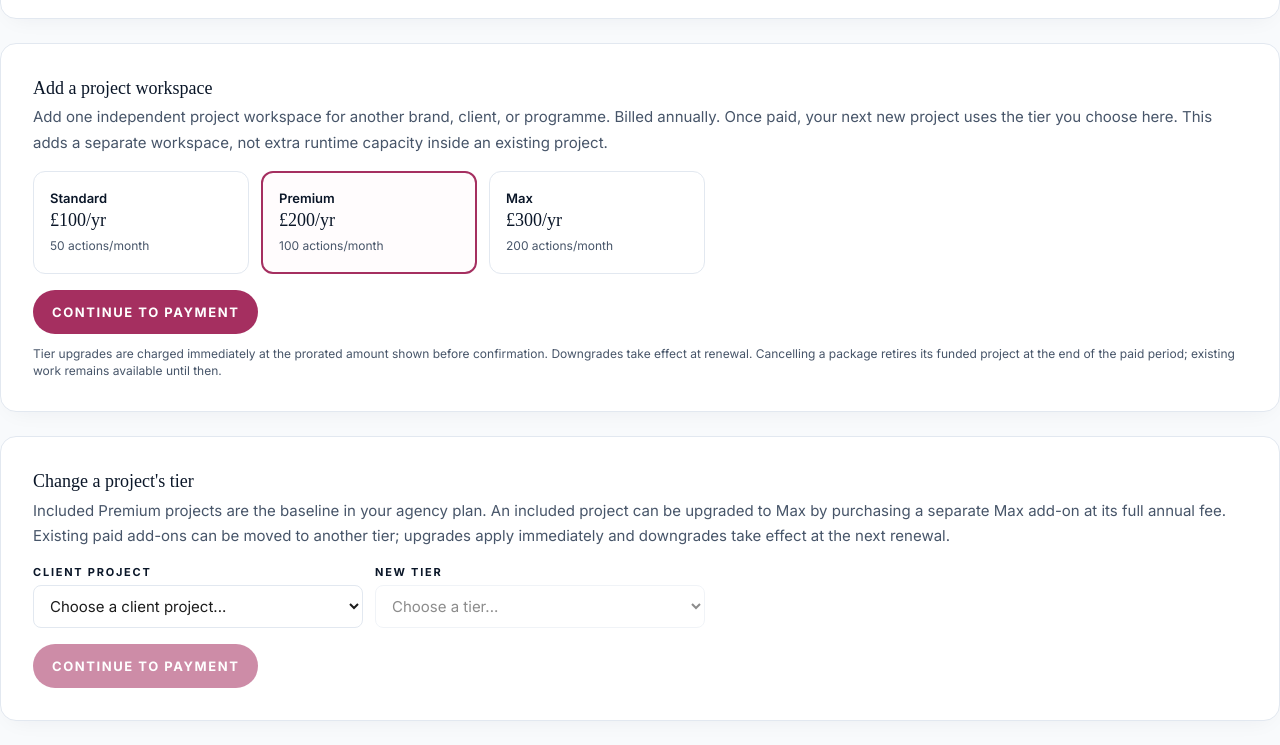
Test case: agency project tier controls › blocks confirmation and retries after a server failure
(page scrolled)
Select "Paid client project - Premium" in the dropdown labelled "Client project". click: (198, 606)
box: [33,585,363,628]
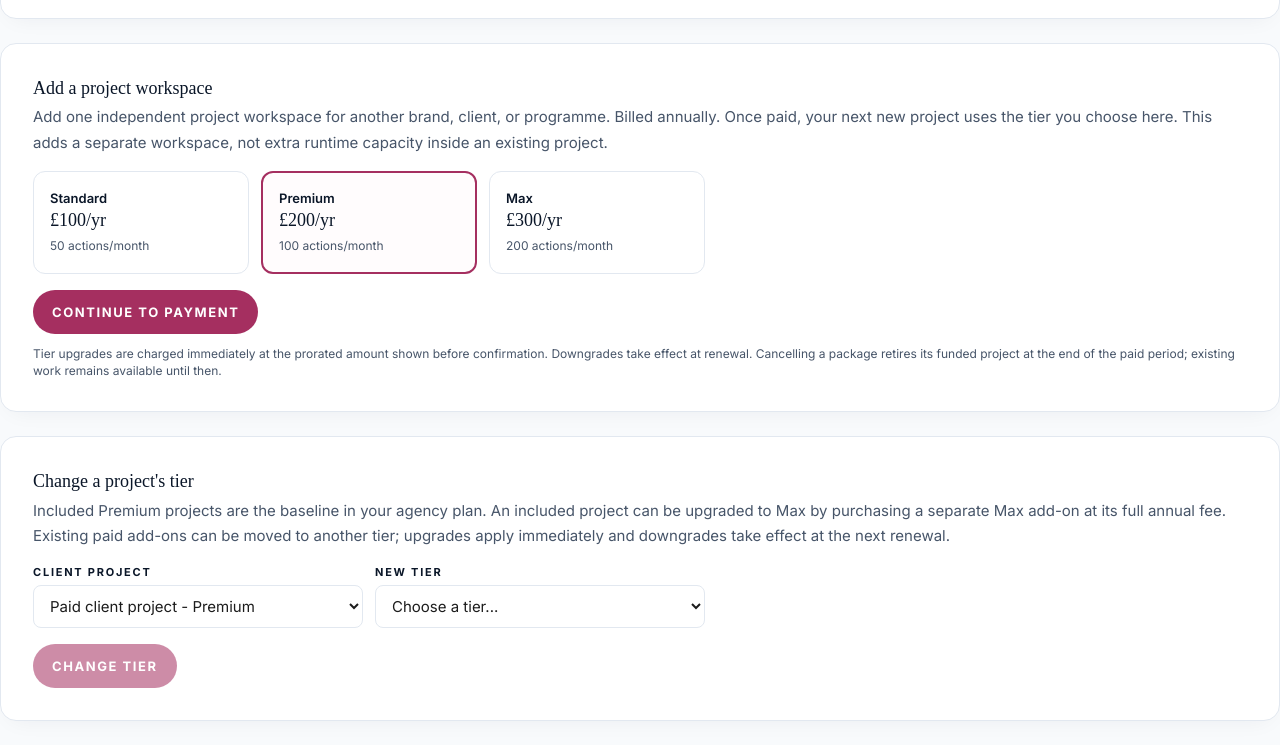
Select "Max - £300/yr, 200 actions/month" in the dropdown labelled "New tier". click: (540, 606)
box: [375,585,705,628]
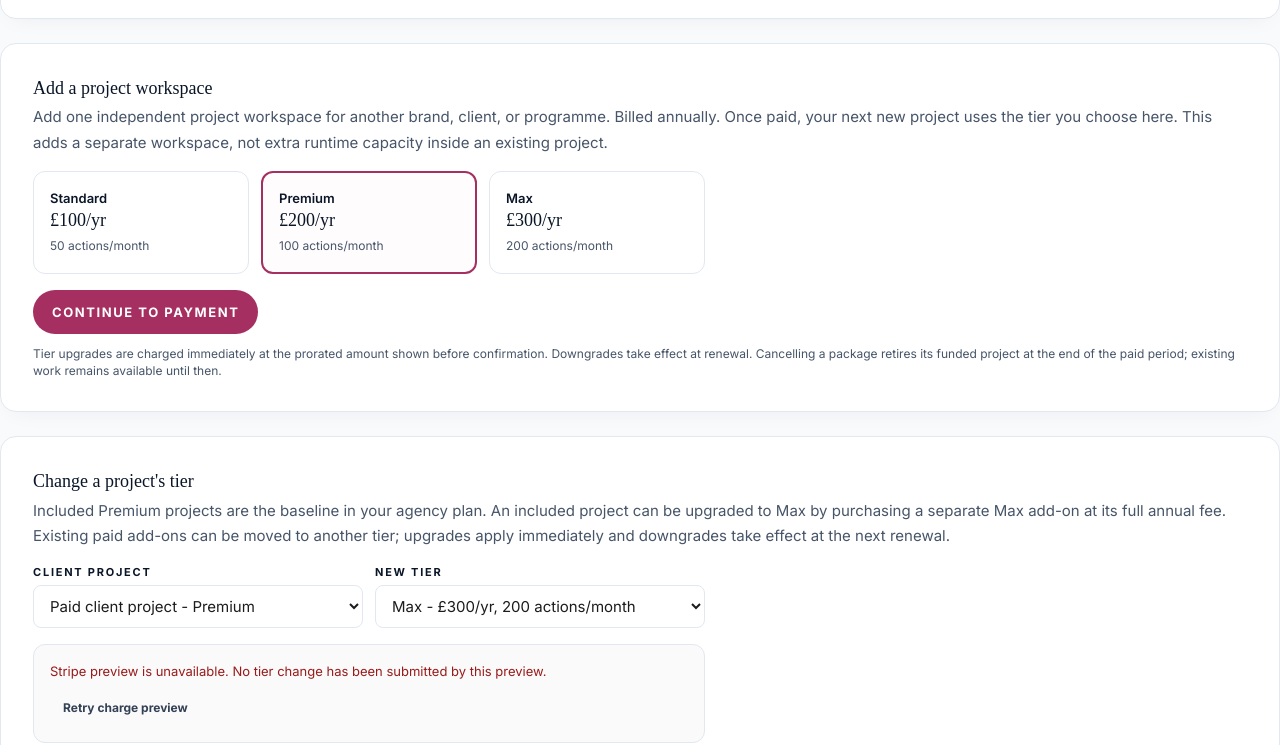
Expected: the message shows "Stripe preview is unavailable.", [50,663,229,679]
Click the button "Retry charge preview". click: click(125, 708)
box: [50,690,201,726]
(page scrolled)
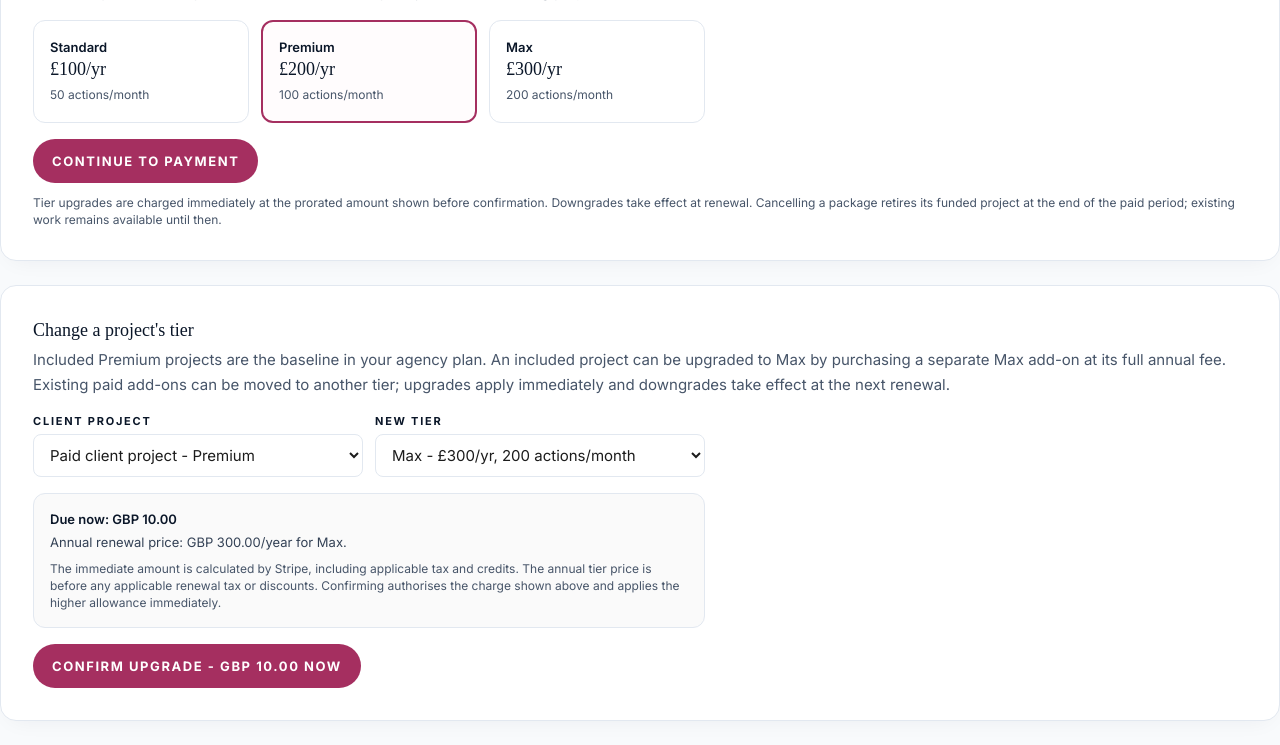
Expected: the button "Confirm upgrade - GBP 10.00 now" is enabled, [33,644,361,688]
